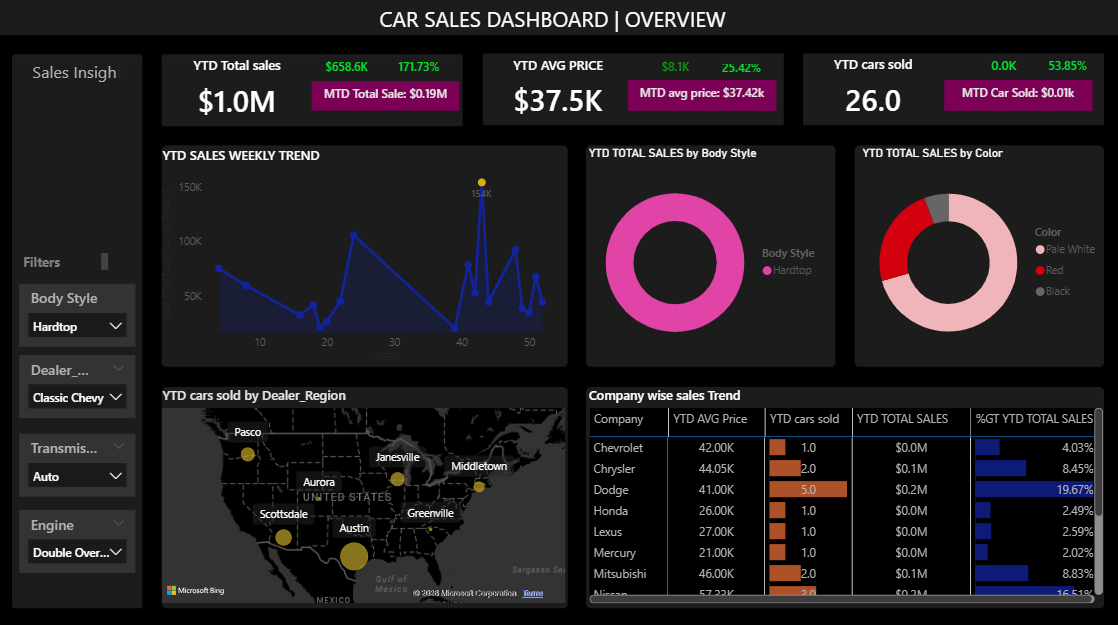

What the dashboard file says about the page in this screenshot:
{"tool":"powerbi","page":{"name":"OVERVIEW","canvas":[1280,720],"ordinal":0},"visuals":[{"type":"card","title":"YTD Total sales","fields":{"Values":["car_data.YTD TOTAL SALES"]},"box":[192.3,63.8,160.8,81.5],"z":0},{"type":"card","title":"Total sales","fields":{"Values":["car_data.sales difference"]},"box":[352.5,63.8,91.2,28.8],"z":1000},{"type":"card","title":"Total sales","fields":{"Values":["car_data.yoy sales growth"]},"box":[436.4,63.6,90.9,29.1],"z":2000},{"type":"card","fields":{"Values":["car_data.MTD kpi"]},"box":[358.8,92.5,168.8,33.8],"z":3000},{"type":"card","title":"YTD AVG PRICE","fields":{"Values":["car_data.AVG Price"]},"box":[560,63.8,160,81.2],"z":4000},{"type":"card","title":"Total sales","fields":{"Values":["car_data.YOY AVG PRICE GROWTH"]},"box":[803.8,63.8,91.2,23.8],"z":5000},{"type":"card","title":"Total sales","fields":{"Values":["car_data.Avg price diff"]},"box":[728.8,63.8,91.2,28.8],"z":6000},{"type":"card","fields":{"Values":["car_data.MTD  Avg Price KPI"]},"box":[720.4,92.1,169.2,34.8],"z":7000},{"type":"card","title":"YTD cars sold","fields":{"Values":["car_data.YTD cars sold"]},"box":[920.7,63.5,160.5,82.1],"z":8000},{"type":"card","title":"Total sales","fields":{"Values":["car_data.yoy car sold growth"]},"box":[1177,62.2,90.8,29.9],"z":9000},{"type":"card","title":"Total sales","fields":{"Values":["car_data.car sold diff"]},"box":[1104.8,63.5,90.8,28.6],"z":10000},{"type":"card","fields":{"Values":["car_data.MTD Car Sold KPI"]},"box":[1081.2,92.1,169.2,34.8],"z":11000},{"type":"areaChart","title":"YTD SALES WEEKLY TREND","fields":{"Category":["Calendar table.WEEK"],"Y":["car_data.MAX POINT","Sum(car_data.Price ($))"]},"box":[183,167,470,252],"z":12000},{"type":"donutChart","fields":{"Category":["car_data.Body Style"],"Y":["car_data.YTD TOTAL SALES"]},"box":[670,167,285,252],"z":13000},{"type":"donutChart","fields":{"Y":["car_data.YTD TOTAL SALES"],"Category":["car_data.Color"]},"box":[983,167,285,252],"z":14000},{"type":"map","fields":{"Category":["car_data.Dealer_Region"],"Size":["car_data.YTD cars sold"]},"box":[182.8,441.7,469.9,252.8],"z":15000},{"type":"tableEx","title":"Company wise sales Trend","fields":{"Values":["car_data.Company","car_data.YTD AVG Price","car_data.YTD cars sold","car_data.YTD TOTAL SALES1","car_data.YTD TOTAL SALES"]},"box":[669.9,441.7,597.5,252.8],"z":15001},{"type":"textbox","box":[0,0,1267.5,51.5],"z":15002},{"type":"slicer","fields":{"Values":["car_data.Body Style"]},"box":[24.5,323.9,132.5,72.4],"z":15003},{"type":"slicer","fields":{"Values":["car_data.Dealer_Name"]},"box":[24.5,406.1,132.5,72.4],"z":15004},{"type":"slicer","fields":{"Values":["car_data.Transmission"]},"box":[24.5,495.7,132.5,72.4],"z":15005},{"type":"slicer","fields":{"Values":["car_data.Engine"]},"box":[24.5,582.8,132.5,72.4],"z":15006},{"type":"textbox","box":[24.5,284.7,106.7,29.4],"z":15007},{"type":"textbox","box":[24.5,63.8,132.5,45.4],"z":15008}]}

Visuals, with their boxes in screenshot pixels (x1, y1, x2, y2), scaled from the page's 1280x720 canvas onto the 1118x625 screenshot:
"YTD Total sales" card: detection(168, 55, 308, 126)
"Total sales" card: detection(308, 55, 388, 80)
"Total sales" card: detection(381, 55, 461, 80)
card - car_data.MTD kpi: detection(313, 80, 461, 110)
"YTD AVG PRICE" card: detection(489, 55, 629, 126)
"Total sales" card: detection(702, 55, 782, 76)
"Total sales" card: detection(637, 55, 716, 80)
card - car_data.MTD  Avg Price KPI: detection(629, 80, 777, 110)
"YTD cars sold" card: detection(804, 55, 944, 126)
"Total sales" card: detection(1028, 54, 1107, 80)
"Total sales" card: detection(965, 55, 1044, 80)
card - car_data.MTD Car Sold KPI: detection(944, 80, 1092, 110)
"YTD SALES WEEKLY TREND" areaChart: detection(160, 145, 570, 364)
donutChart - car_data.Body Style x car_data.YTD TOTAL SALES: detection(585, 145, 834, 364)
donutChart - car_data.YTD TOTAL SALES x car_data.Color: detection(859, 145, 1108, 364)
map - car_data.Dealer_Region x car_data.YTD cars sold: detection(160, 383, 570, 603)
"Company wise sales Trend" tableEx: detection(585, 383, 1107, 603)
textbox: detection(0, 0, 1107, 45)
slicer - car_data.Body Style: detection(21, 281, 137, 344)
slicer - car_data.Dealer_Name: detection(21, 353, 137, 415)
slicer - car_data.Transmission: detection(21, 430, 137, 493)
slicer - car_data.Engine: detection(21, 506, 137, 569)
textbox: detection(21, 247, 115, 273)
textbox: detection(21, 55, 137, 95)
